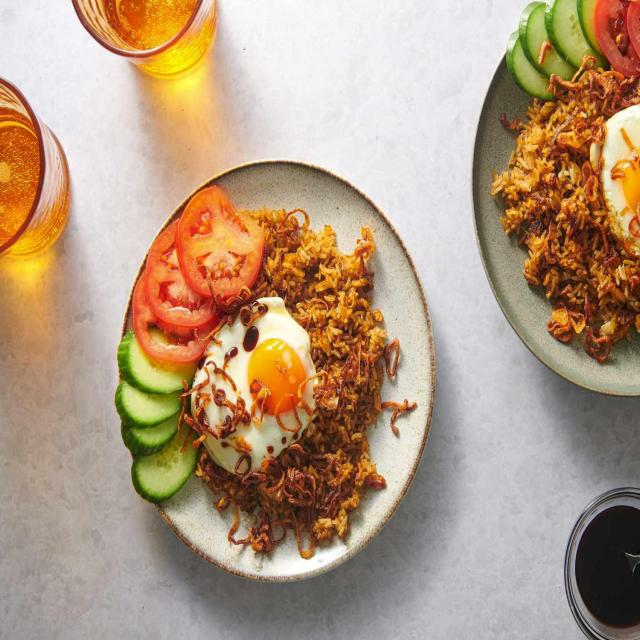Nasi Goreng: (166, 215, 396, 551), (506, 75, 640, 367)
